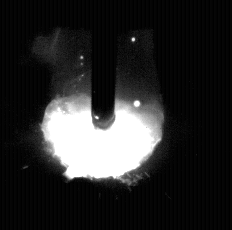arame: (92, 0, 116, 130)
poca: (40, 0, 162, 230)
